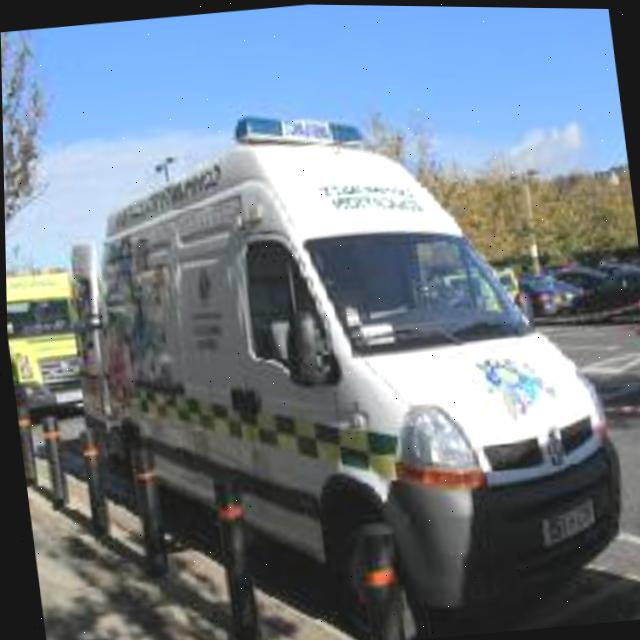emergency: (37, 96, 638, 628)
